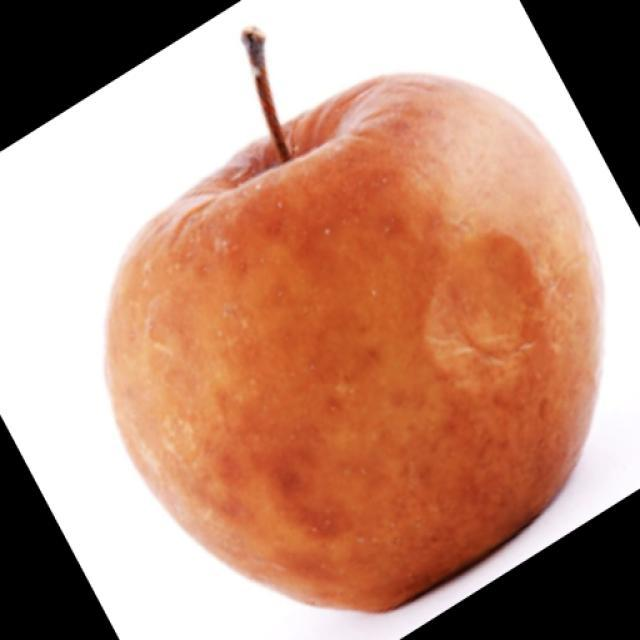Rotten: (93, 79, 592, 594)
